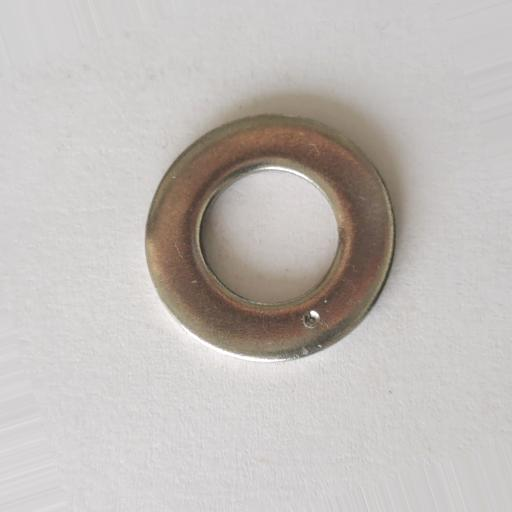circular_cavity: (303, 310, 322, 328)
